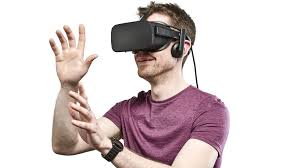oculus: (109, 19, 178, 55)
